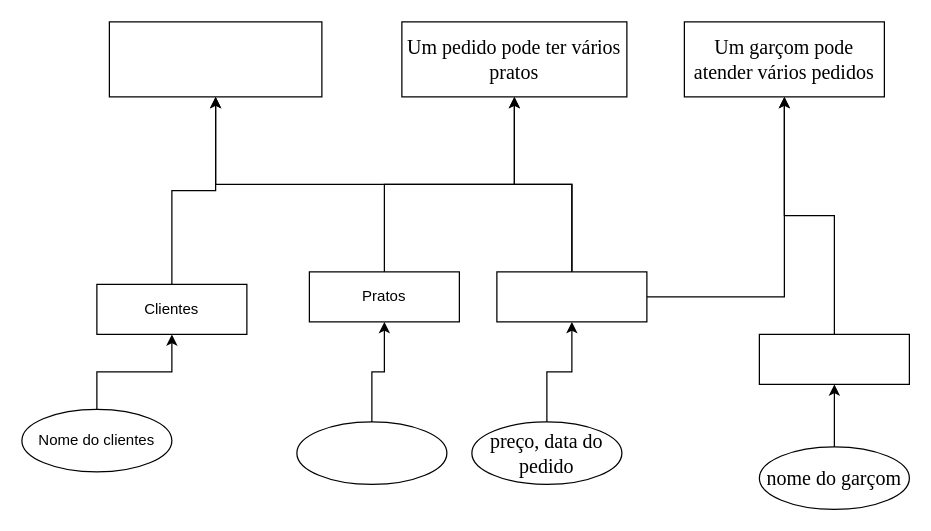
The diagram is 931 pixels wide and 531 high, and some of its shapes have lost their labels. Here are the shapes that lost their labels. From the top down, the centre of each, then its label:
At (215,59): "Um cliente pode fazer vários pedidos".
At (571,296): "Pedidos".
At (833,358): "Garçons".
At (371,452): "nome do prato".
